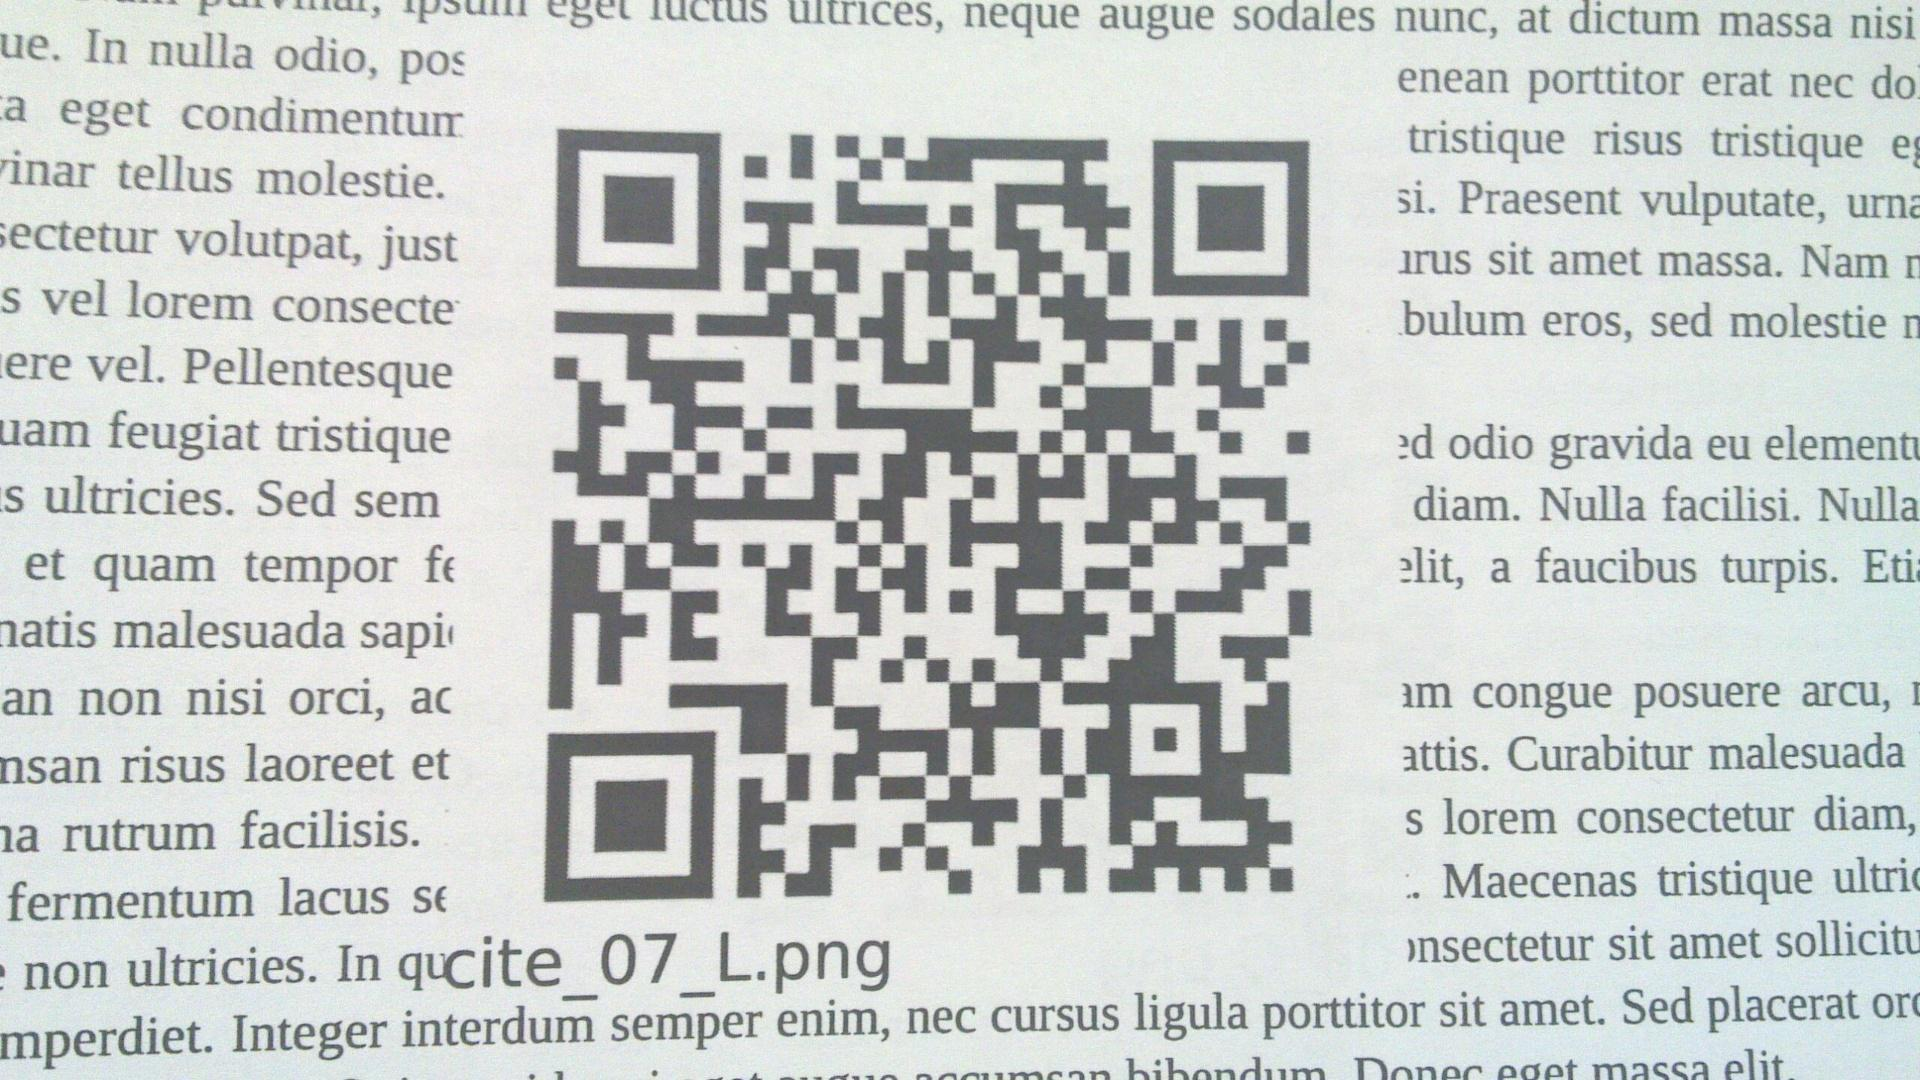qr_code: (545, 128, 1313, 905)
